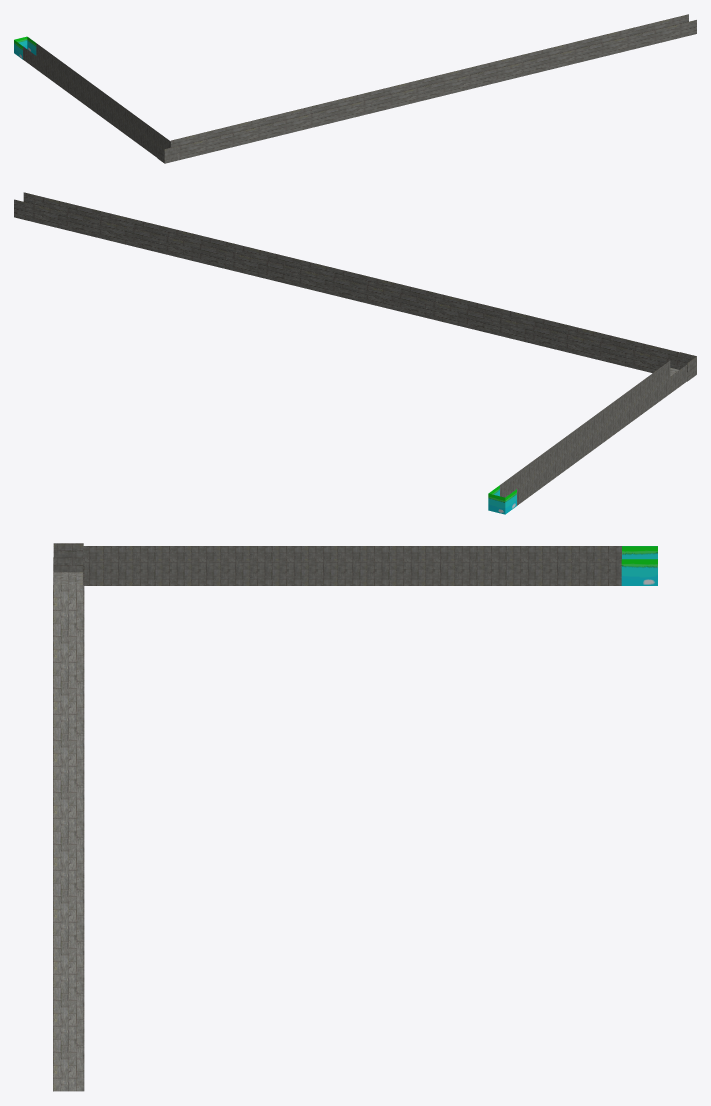
The model's file is background.fbx.
The picture shows the model from 3 angles, top to bottom: view 1: azimuth 30°, elevation 25°; view 2: azimuth 150°, elevation 25°; view 3: azimuth 270°, elevation 25°; orthographic projection. The views are drawn at different scales.
Parts seen in each view (by area): view 1: Box001, Plane002, Plane003, Box003, Box002; view 2: Box001, Plane002, Plane003, Box003; view 3: Box001, Plane003, Plane002, Box003, Box002.
Part boxes in pixels (bbox=[...]): Box001: bbox=[170, 14, 696, 160]; Plane002: bbox=[23, 46, 157, 157]; Plane003: bbox=[36, 43, 170, 148]; Box003: bbox=[14, 36, 36, 59]; Box002: bbox=[157, 144, 177, 163]; Box001: bbox=[14, 192, 679, 376]; Plane002: bbox=[517, 365, 686, 505]; Plane003: bbox=[500, 361, 670, 497]; Box003: bbox=[488, 485, 516, 514]; Box001: bbox=[53, 557, 84, 1091]; Plane003: bbox=[83, 559, 621, 585]; Plane002: bbox=[83, 546, 621, 558]; Box003: bbox=[621, 546, 657, 585]; Box002: bbox=[53, 543, 83, 584].
Bounding box in the file's own units: 2652 × 69.76 × 1306.
